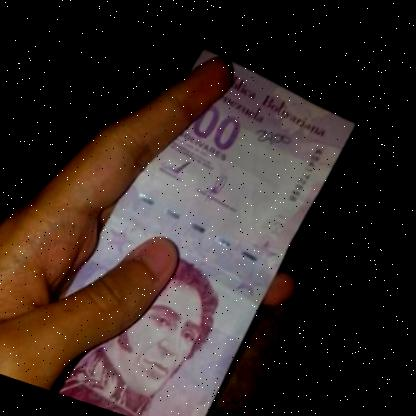one_hundred-front-vef: (37, 22, 365, 416)
